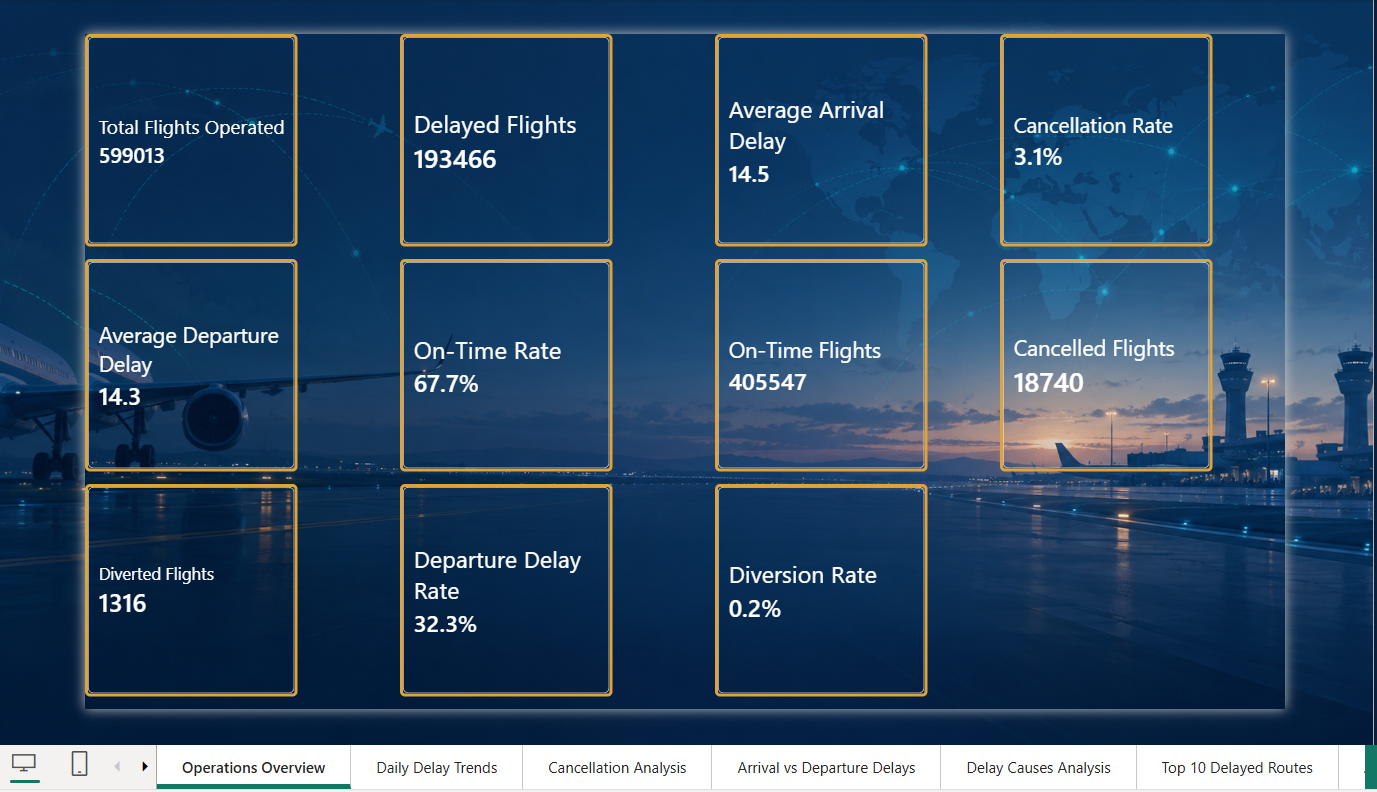

What the dashboard file says about the page in this screenshot:
{"tool":"powerbi","page":{"name":"Operations Overview","canvas":[1920,1080],"ordinal":0},"visuals":[{"type":"cardVisual","fields":{"Data":["flight_operations_january_2025_clean.Total Flights"]},"box":[0,0,340,340],"z":0},{"type":"cardVisual","fields":{"Data":["flight_operations_january_2025_clean.Cancelled Flights"]},"box":[1464,360,340,340],"z":1000},{"type":"cardVisual","fields":{"Data":["flight_operations_january_2025_clean.Diverted Flights"]},"box":[0,720,340,340],"z":2000},{"type":"cardVisual","fields":{"Data":["flight_operations_january_2025_clean.Delayed Flights"]},"box":[504,0,340,340],"z":3000},{"type":"cardVisual","fields":{"Data":["flight_operations_january_2025_clean.On-Time Flights"]},"box":[1008,360,340,340],"z":4000},{"type":"cardVisual","fields":{"Data":["flight_operations_january_2025_clean.Departure Delay Rate"]},"box":[504,720,340,340],"z":5000},{"type":"cardVisual","fields":{"Data":["flight_operations_january_2025_clean.On-Time Rate"]},"box":[504,360,340,340],"z":6000},{"type":"cardVisual","fields":{"Data":["flight_operations_january_2025_clean.Cancellation Rate"]},"box":[1464,0,340,340],"z":7000},{"type":"cardVisual","fields":{"Data":["flight_operations_january_2025_clean.Diversion Rate"]},"box":[1008,720,340,340],"z":8000},{"type":"cardVisual","fields":{"Data":["flight_operations_january_2025_clean.Average Arrival Delay"]},"box":[1008,0,340,340],"z":9000},{"type":"cardVisual","fields":{"Data":["flight_operations_january_2025_clean.Average Departure Delay"]},"box":[0,360,340,340],"z":10000}]}

Visuals, with their boxes on the page's 1920x1080 design canvas (x1, y1, x2, y2). These are canvas units, not pixel positions in the 1377x792 screenshot, which may show the page scaled, cropped or inside an application window:
cardVisual - flight_operations_january_2025_clean.Total Flights: (0, 0, 340, 340)
cardVisual - flight_operations_january_2025_clean.Cancelled Flights: (1464, 360, 1804, 700)
cardVisual - flight_operations_january_2025_clean.Diverted Flights: (0, 720, 340, 1060)
cardVisual - flight_operations_january_2025_clean.Delayed Flights: (504, 0, 844, 340)
cardVisual - flight_operations_january_2025_clean.On-Time Flights: (1008, 360, 1348, 700)
cardVisual - flight_operations_january_2025_clean.Departure Delay Rate: (504, 720, 844, 1060)
cardVisual - flight_operations_january_2025_clean.On-Time Rate: (504, 360, 844, 700)
cardVisual - flight_operations_january_2025_clean.Cancellation Rate: (1464, 0, 1804, 340)
cardVisual - flight_operations_january_2025_clean.Diversion Rate: (1008, 720, 1348, 1060)
cardVisual - flight_operations_january_2025_clean.Average Arrival Delay: (1008, 0, 1348, 340)
cardVisual - flight_operations_january_2025_clean.Average Departure Delay: (0, 360, 340, 700)
